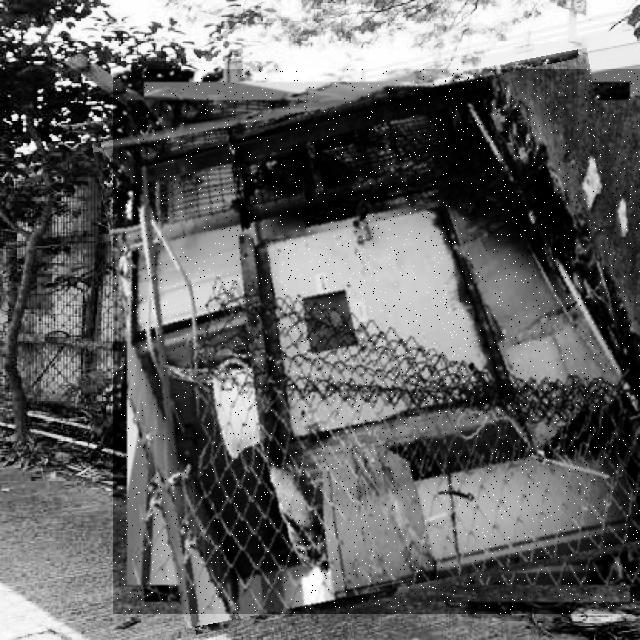anomaly-fence: (113, 69, 640, 614)
